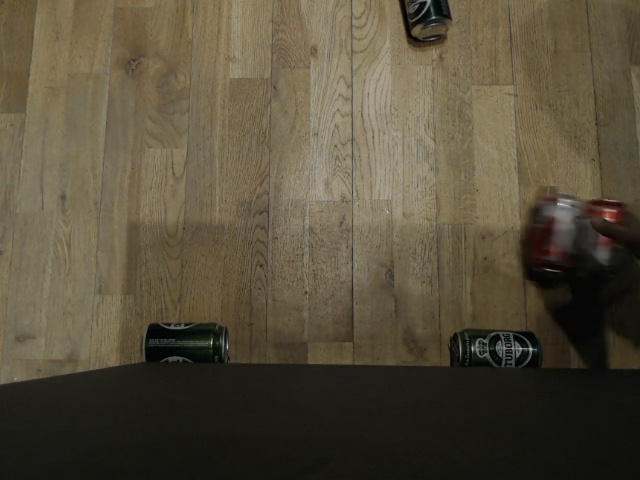beer: (447, 327, 547, 373), (138, 319, 232, 364), (395, 0, 453, 44)
cola: (525, 194, 581, 276), (579, 196, 630, 282)
